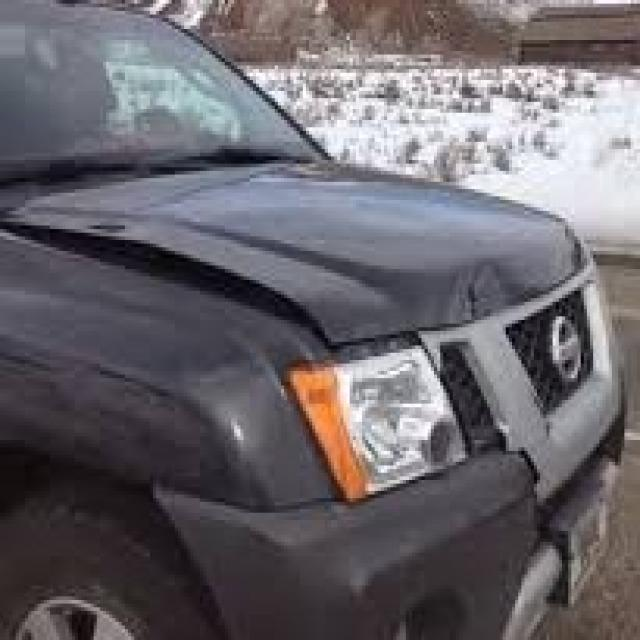minor: (20, 172, 557, 335)
